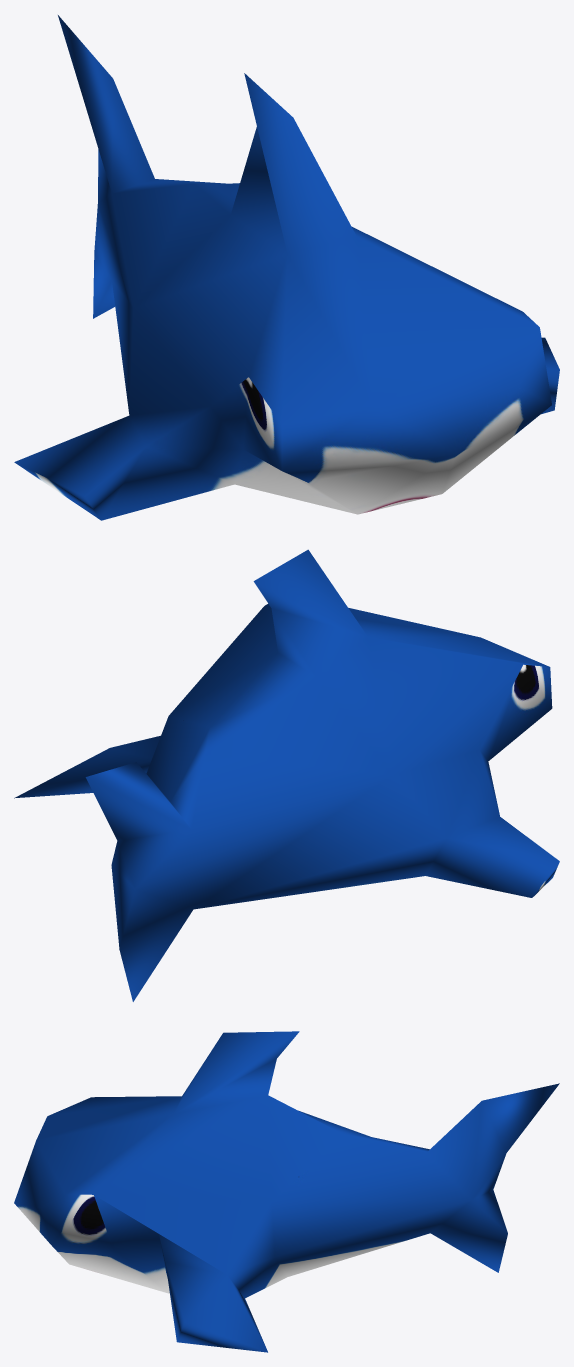
File: squalo_LOD2.fbx
3 renders of one model, top to bottom at view 1: azimuth 30°, elevation 25°; view 2: azimuth 150°, elevation 25°; view 3: azimuth 270°, elevation 25°, orthographic. The views are drawn at different scales.
Visible parts, largest first — view 1: Group57338; view 2: Group57338; view 3: Group57338.
Part boxes in pixels (<box>): Group57338: <box>14,15,559,520</box>; Group57338: <box>14,549,559,1001</box>; Group57338: <box>14,1031,559,1352</box>.
Size of the model in its own units: 1062 by 647 by 1303.
1 material, 1 textured.
